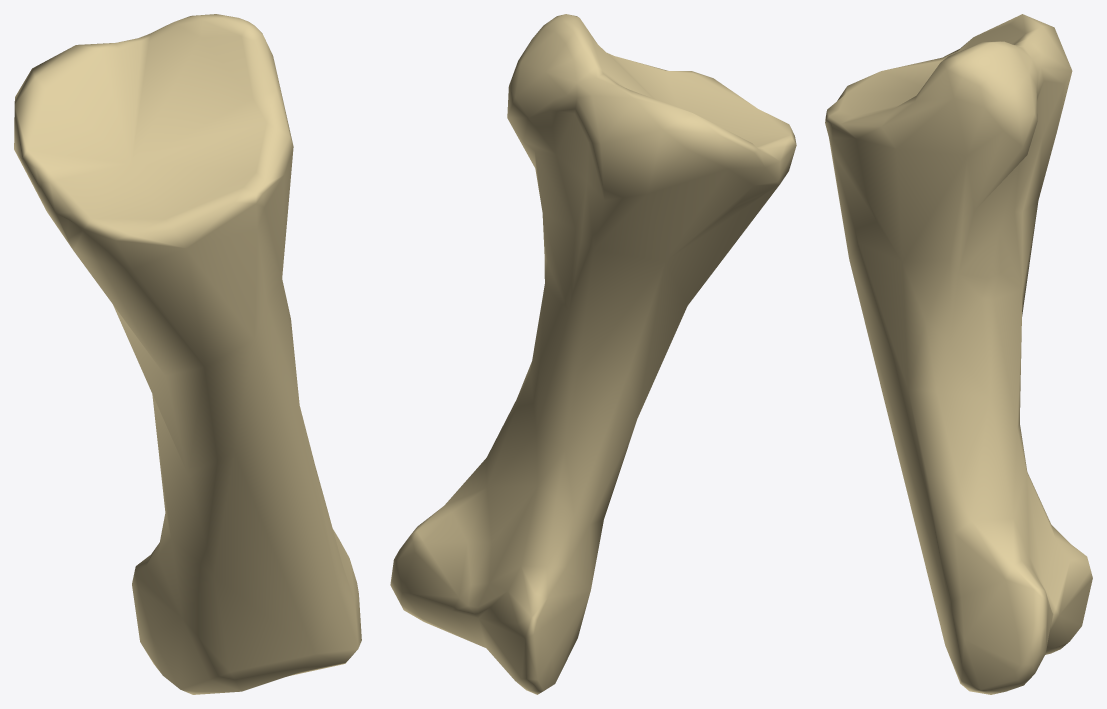
The picture shows the model from 3 angles, left to right: view 1: azimuth 30°, elevation 25°; view 2: azimuth 150°, elevation 25°; view 3: azimuth 270°, elevation 25°; orthographic projection. The views are drawn at different scales.
Parts seen in each view (by area): view 1: 左侧第三趾近节趾骨; view 2: 左侧第三趾近节趾骨; view 3: 左侧第三趾近节趾骨.
Boxes of the visible parts, x1,y1,x2,y2 form: 左侧第三趾近节趾骨: [14, 14, 361, 694]; 左侧第三趾近节趾骨: [390, 14, 796, 694]; 左侧第三趾近节趾骨: [825, 14, 1092, 694].
Bounding box in the file's own units: 0.0242 × 0.0445 × 0.0176.
